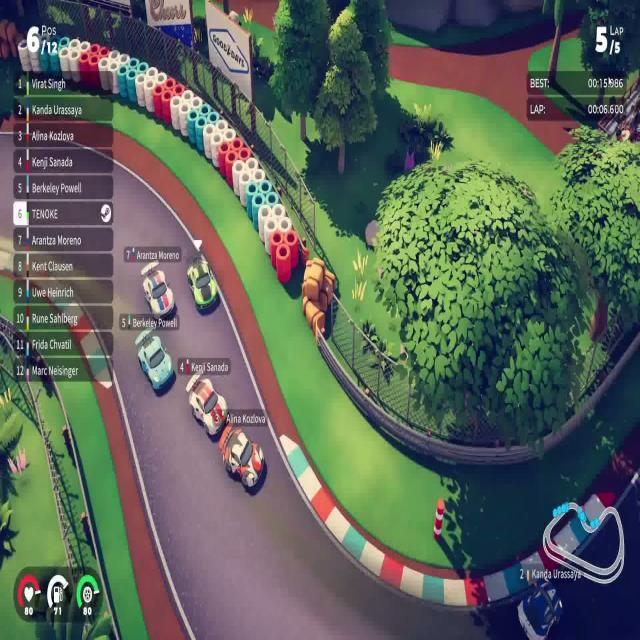car: (218, 421, 265, 490), (185, 370, 228, 438), (134, 328, 174, 393), (140, 260, 175, 322), (186, 254, 218, 313)
